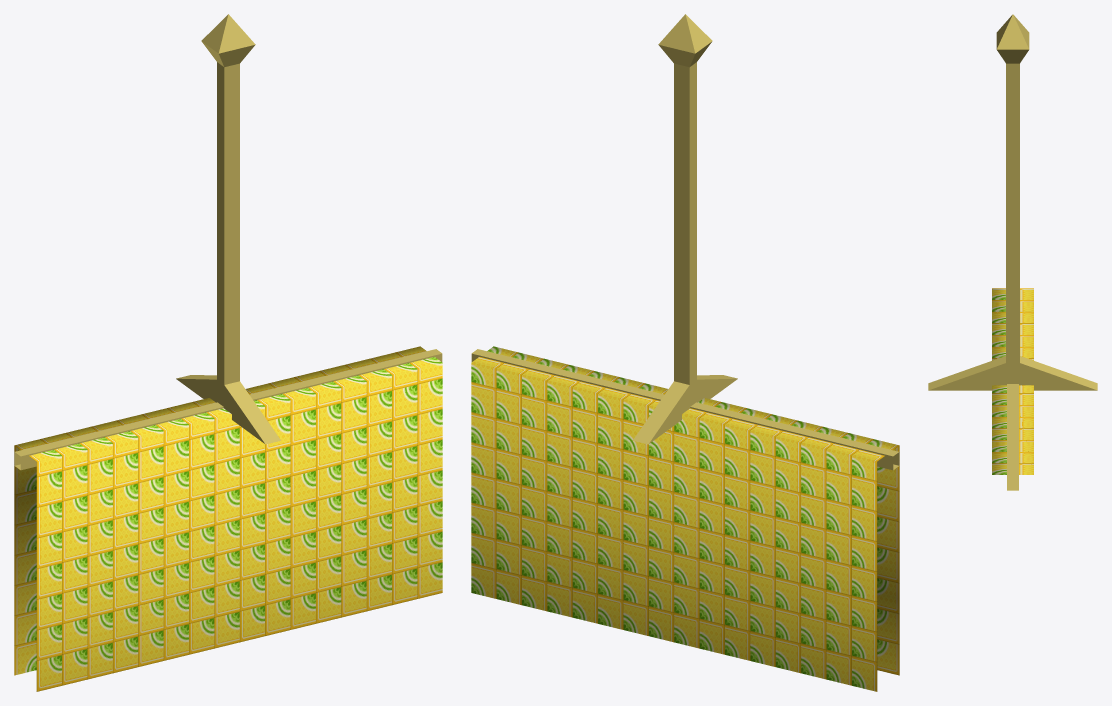
Rendered from 4675floor_r.gltf.
3 views of the same model, side by side, from view 1: azimuth 30°, elevation 25°; view 2: azimuth 150°, elevation 25°; view 3: azimuth 270°, elevation 25° (orthographic). The views are drawn at different scales.
Parts seen in each view (by area): view 1: 4675floor_r; view 2: 4675floor_r; view 3: 4675floor_r.
Boxes of the visible parts, x1,y1,x2,y2 form: 4675floor_r: (14, 14, 442, 691); 4675floor_r: (471, 14, 899, 691); 4675floor_r: (928, 14, 1097, 490).
Size of the model in its own units: 1.59 by 2.23 by 0.5869.
Materials: 2 (1 with a texture image).
